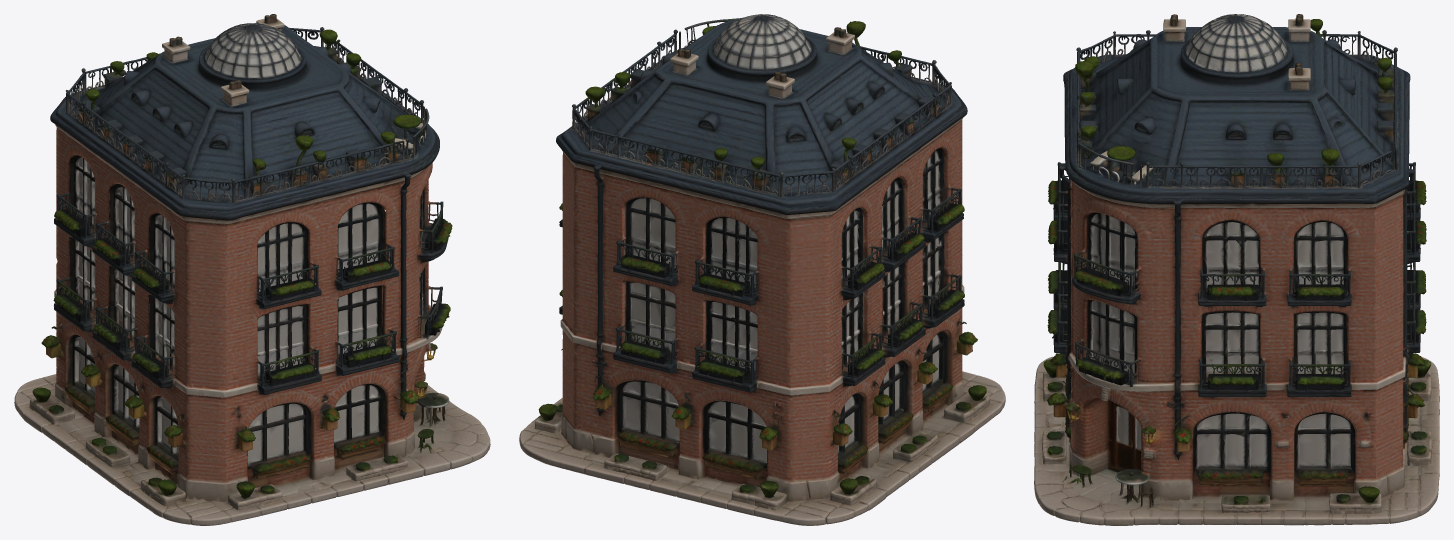
The model's file is hotelcorner.glb.
3 views of the same model, side by side, from view 1: azimuth 30°, elevation 25°; view 2: azimuth 150°, elevation 25°; view 3: azimuth 270°, elevation 25° (orthographic). The views are drawn at different scales.
Visible parts, largest first — view 1: tripo_node_49c90adb-3e5c-4162-a032-27ce738b3c23; view 2: tripo_node_49c90adb-3e5c-4162-a032-27ce738b3c23; view 3: tripo_node_49c90adb-3e5c-4162-a032-27ce738b3c23.
Part boxes in pixels (x1,y1,x2,y2): tripo_node_49c90adb-3e5c-4162-a032-27ce738b3c23: [14, 14, 490, 525]; tripo_node_49c90adb-3e5c-4162-a032-27ce738b3c23: [519, 14, 1005, 525]; tripo_node_49c90adb-3e5c-4162-a032-27ce738b3c23: [1034, 14, 1439, 525].
Bounding box in the file's own units: 1.06 × 1.2 × 1.05.
1 material, 1 textured.
